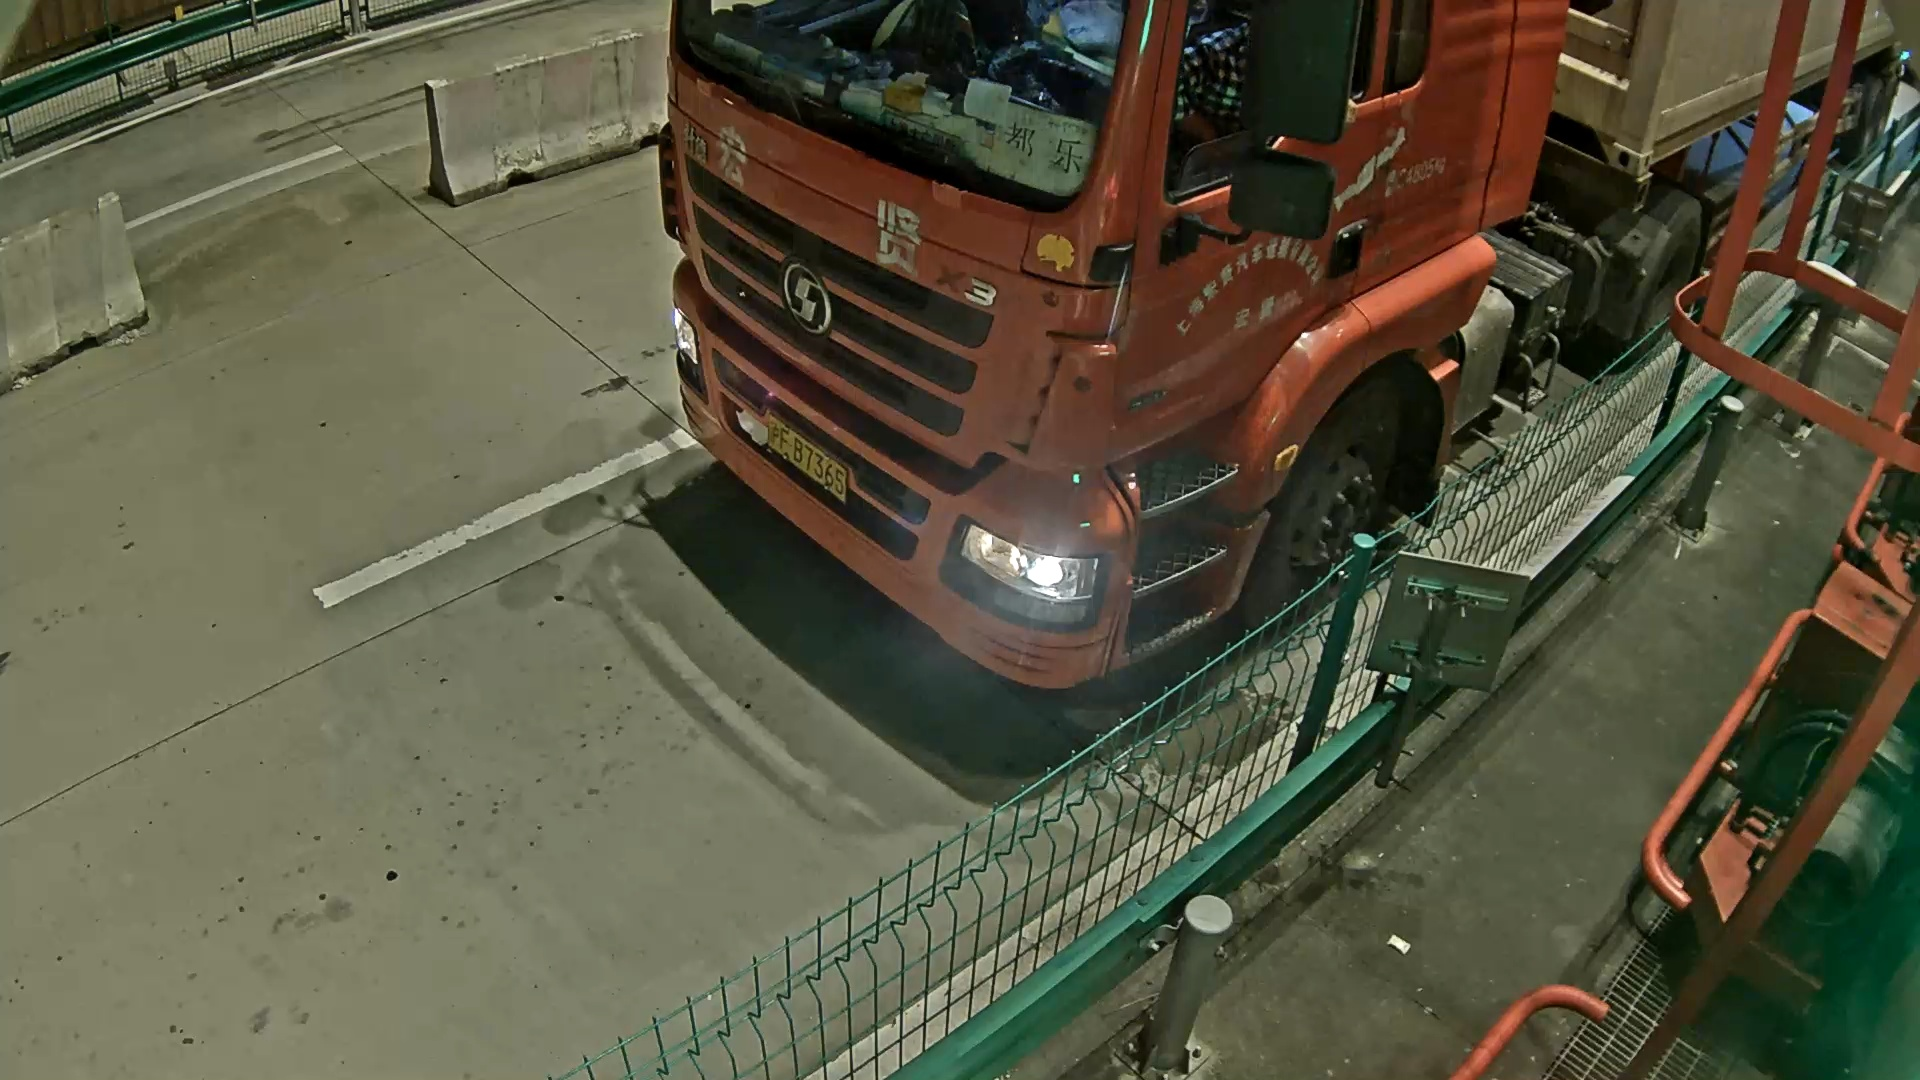head: (663, 1, 1575, 684)
plate: (758, 407, 855, 505)
